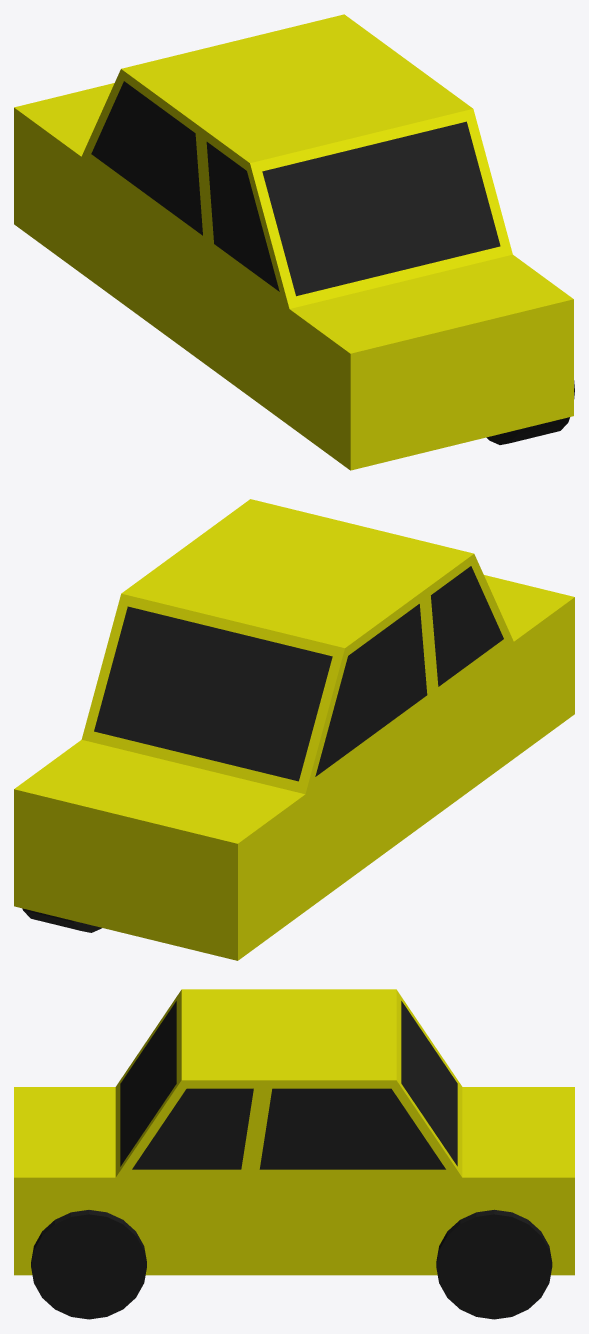
The model's file is Car.fbx.
The picture shows the model from 3 angles, top to bottom: view 1: azimuth 30°, elevation 25°; view 2: azimuth 150°, elevation 25°; view 3: azimuth 270°, elevation 25°; orthographic projection. The views are drawn at different scales.
Parts seen in each view (by area): view 1: Car_01, Car_01.006, Car_01.005; view 2: Car_01, Car_01.006, Car_01.005; view 3: Car_01, Car_01.006, Car_01.005.
Part boxes in pixels (x1,y1,x2,y2): Car_01: (14, 14, 573, 470); Car_01.006: (91, 81, 500, 296); Car_01.005: (486, 380, 574, 444); Car_01: (14, 499, 574, 960); Car_01.006: (94, 566, 503, 781); Car_01.005: (22, 908, 101, 932); Car_01: (14, 989, 574, 1275); Car_01.006: (120, 1001, 457, 1169); Car_01.005: (31, 1209, 552, 1319).
Bounding box in the file's own units: 129 × 148 × 321.
